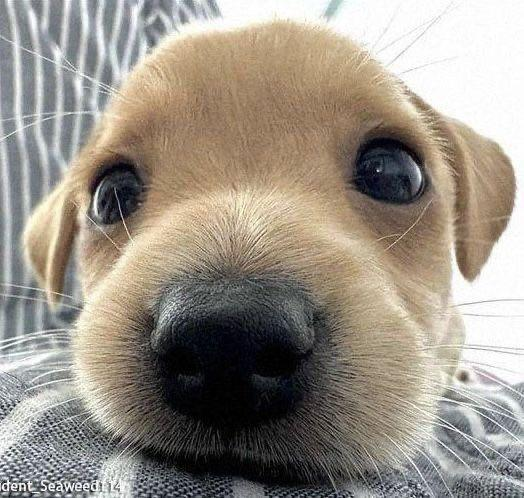puppy-dog: (13, 22, 515, 482)
